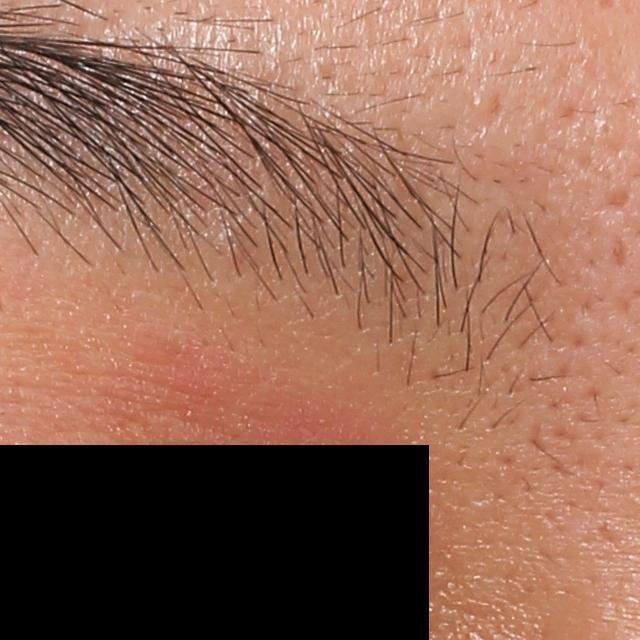atrophic_scar: (611, 234, 627, 273), (603, 188, 632, 208)
comedo: (467, 91, 497, 114), (590, 119, 618, 142)
